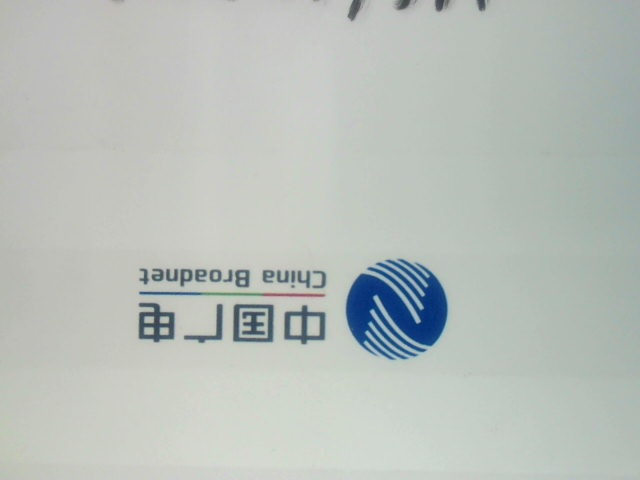AW_ChinaBroadNet: (116, 243, 450, 372)
